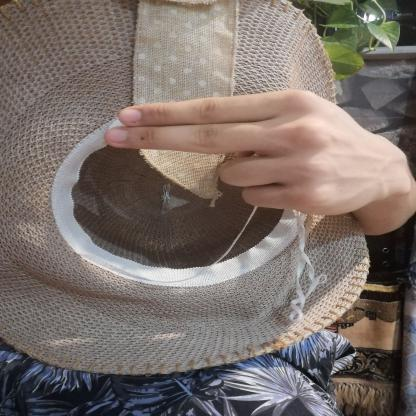AYN: (89, 71, 409, 232)
